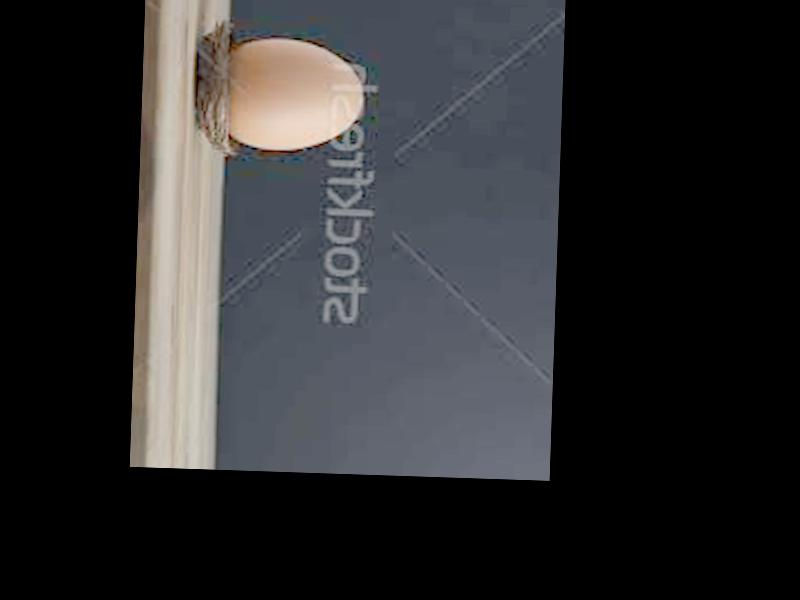Eggs: (225, 35, 364, 150)
